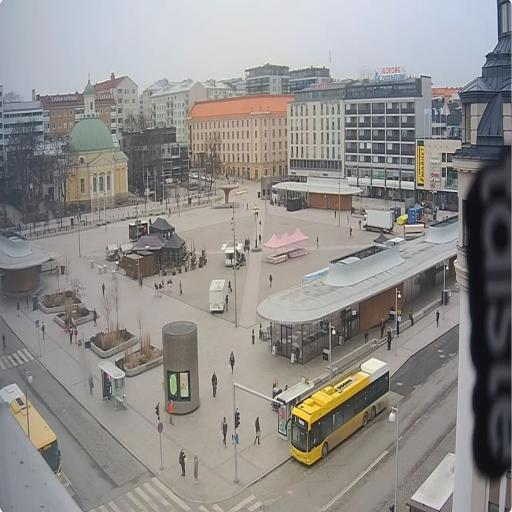bus: (285, 356, 390, 468), (0, 384, 63, 481)
car: (204, 173, 215, 184), (190, 172, 198, 181), (201, 173, 205, 181)
delivery: (362, 206, 395, 236)
